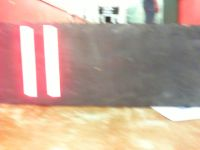switch: (42, 24, 61, 97), (19, 25, 37, 97)
